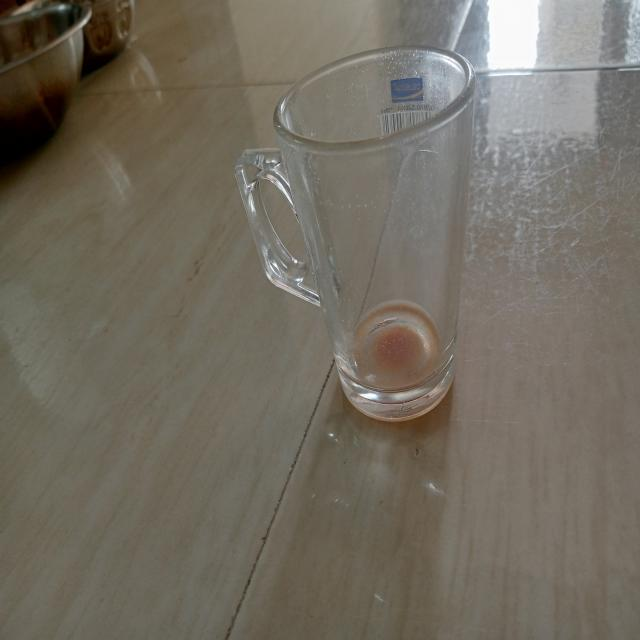glass-VX4N: (233, 42, 482, 431)
